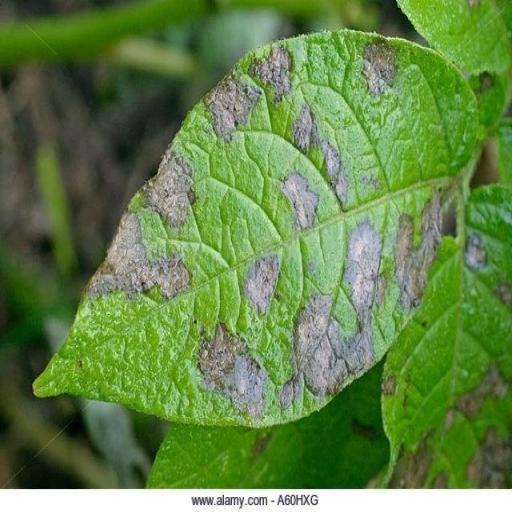Early Blight: (33, 19, 485, 433), (364, 184, 512, 487)
